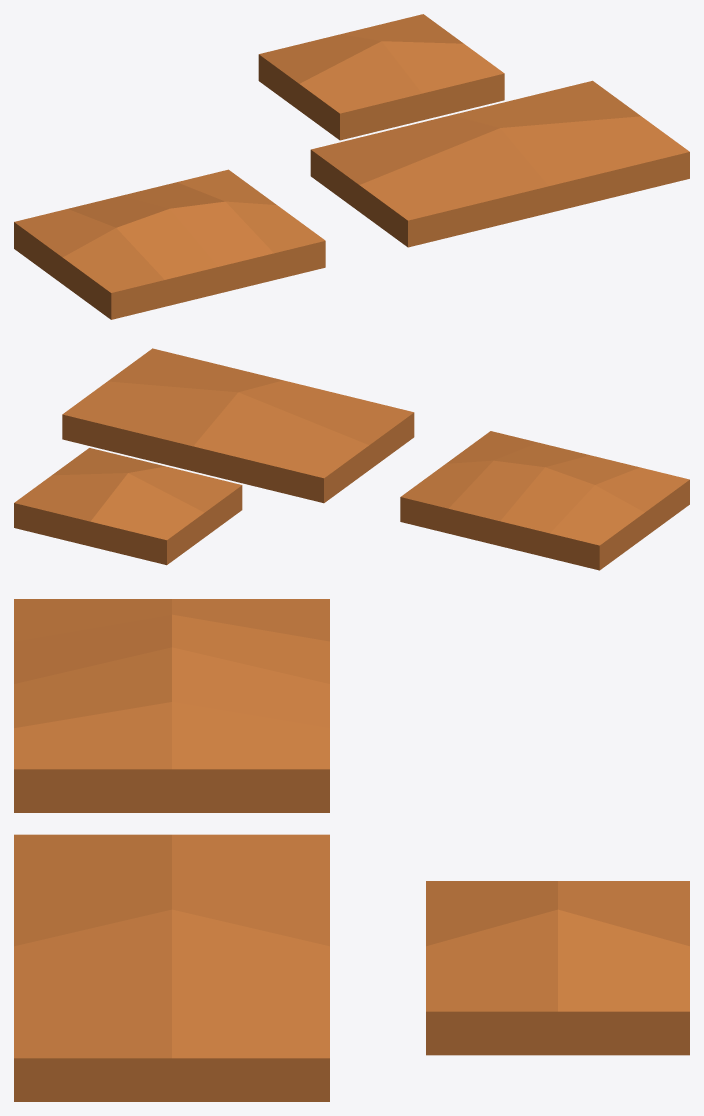
The model's file is Hügel.fbx.
3 views of the same model, one above another, from view 1: azimuth 30°, elevation 25°; view 2: azimuth 150°, elevation 25°; view 3: azimuth 270°, elevation 25° (orthographic). The views are drawn at different scales.
Parts seen in each view (by area): view 1: Cube.001, Cube.002, Cube; view 2: Cube.001, Cube.002, Cube; view 3: Cube.001, Cube.002, Cube.
Part boxes in pixels (<box>): Cube.001: <box>310,80,689,247</box>; Cube.002: <box>14,169,325,319</box>; Cube: <box>258,14,504,140</box>; Cube.001: <box>62,348,414,503</box>; Cube.002: <box>400,431,689,570</box>; Cube: <box>14,448,242,565</box>; Cube.001: <box>14,834,329,1101</box>; Cube.002: <box>14,599,329,812</box>; Cube: <box>426,881,689,1055</box>.
Bounding box in the file's own units: 810 × 66.21 × 504.
